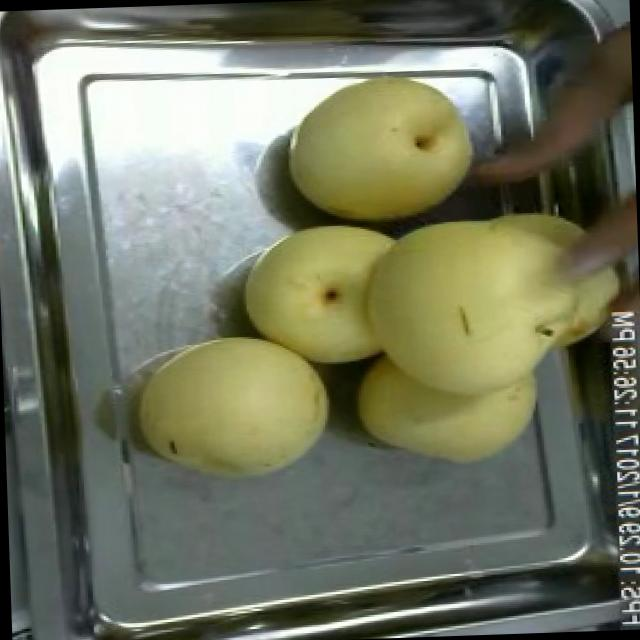Fruit: (337, 183, 640, 479), (234, 212, 452, 384), (274, 64, 493, 231), (129, 322, 341, 494)
